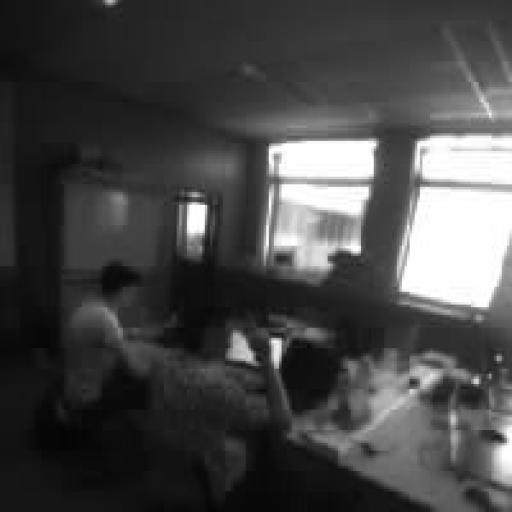human: (152, 308, 291, 504), (62, 262, 148, 430)
